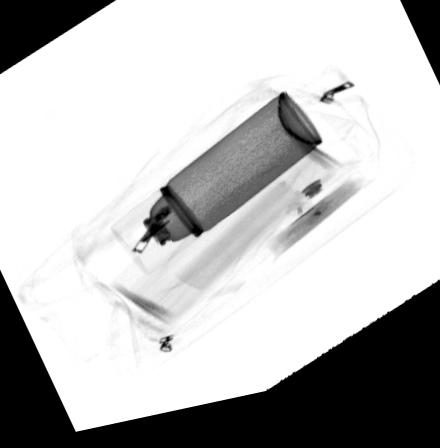Sprayer: (108, 102, 326, 283)
